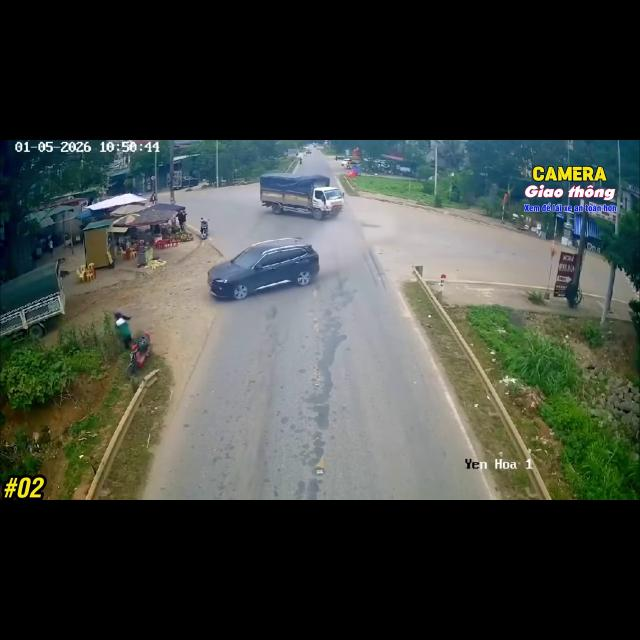car: (208, 238, 319, 299), (306, 149, 311, 153)
motorcycle: (126, 333, 151, 378), (200, 218, 208, 239), (299, 158, 302, 164)
truck: (0, 261, 64, 337), (260, 173, 344, 219)
